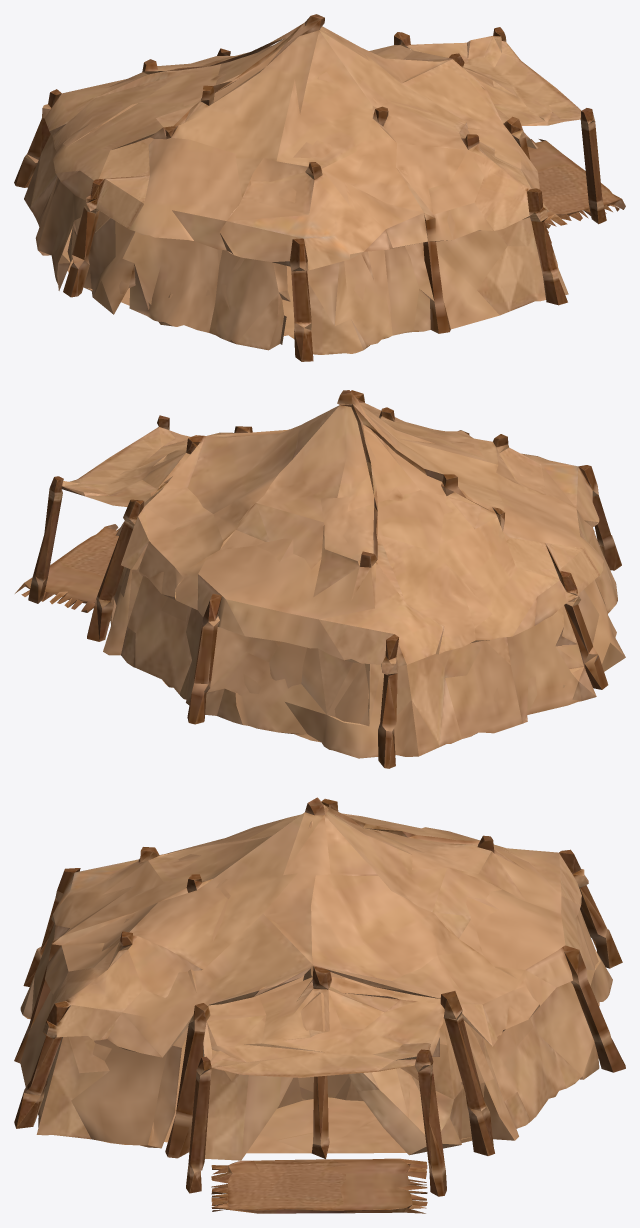
The model's file is midian-jethro-tent.glb.
3 renders of one model, top to bottom at view 1: azimuth 30°, elevation 25°; view 2: azimuth 150°, elevation 25°; view 3: azimuth 270°, elevation 25°, orthographic. The views are drawn at different scales.
Bounding box in the file's own units: 1.9 × 0.7939 × 1.67.
1 material, 1 textured.
